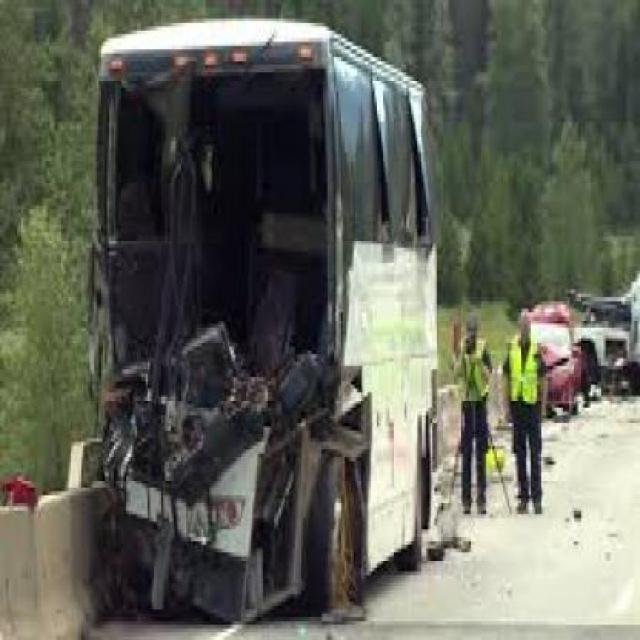accident: (56, 0, 452, 629)
